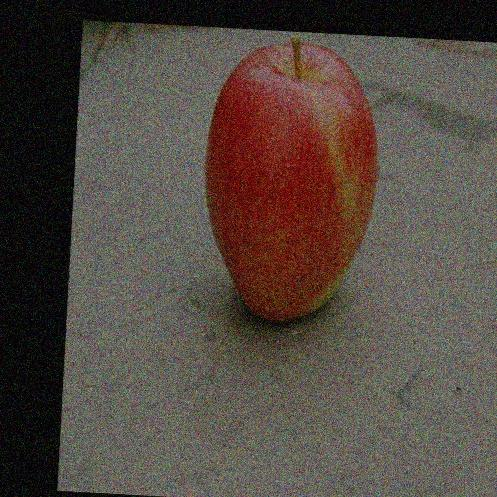red apple: (203, 39, 377, 321)
